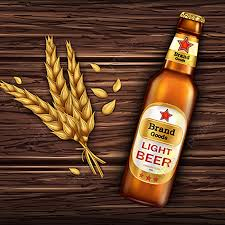beer: (121, 11, 206, 206)
